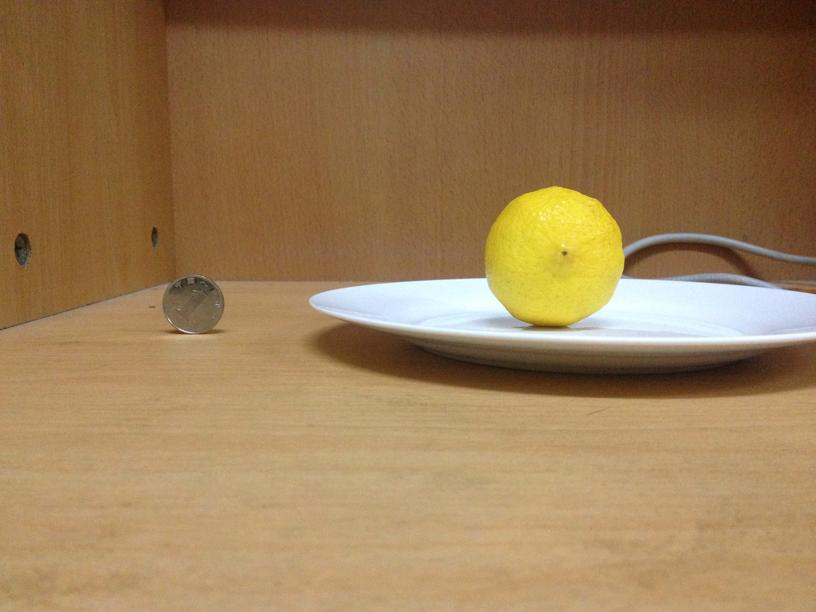coin: (162, 274, 226, 332)
lemon: (477, 187, 625, 328)
